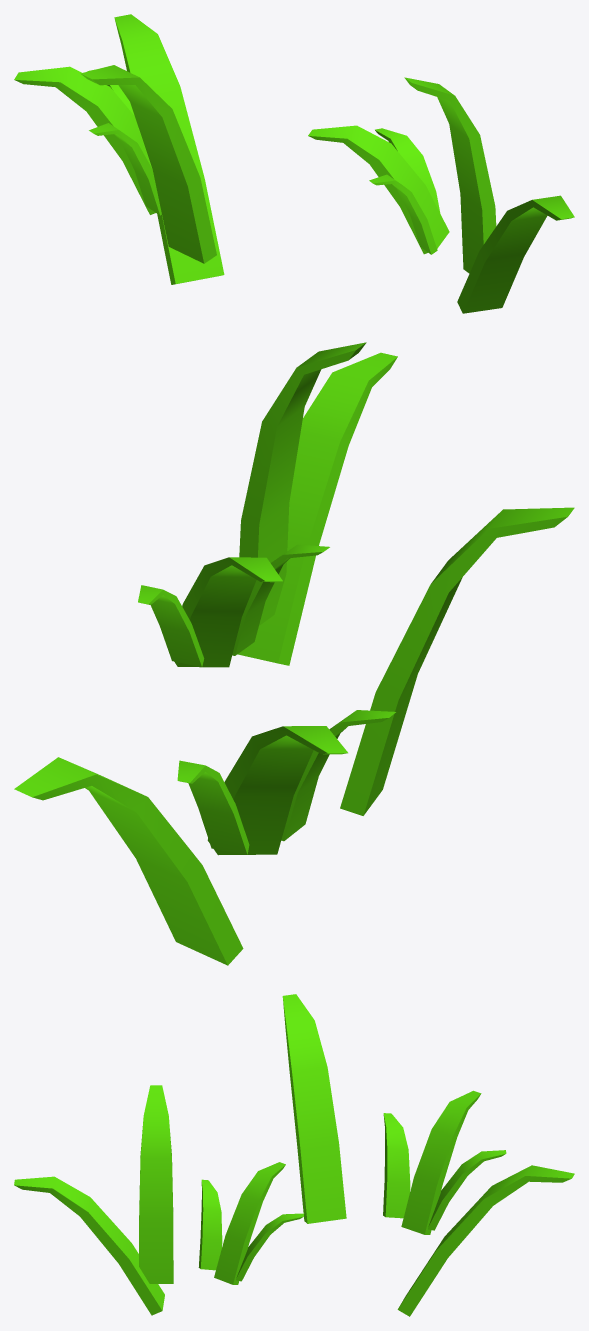
Rendered from veg_05.fbx.
3 views of the same model, one above another, from view 1: azimuth 30°, elevation 25°; view 2: azimuth 150°, elevation 25°; view 3: azimuth 270°, elevation 25° (orthographic). The views are drawn at different scales.
Visible parts, largest first — view 1: veg_05; view 2: veg_05; view 3: veg_05.
Boxes of the visible parts, x1=… form: veg_05: x1=14, y1=14, x2=574, y2=313; veg_05: x1=14, y1=342, x2=574, y2=965; veg_05: x1=14, y1=994, x2=574, y2=1316.
Bounding box in the file's own units: 2.07 × 1.85 × 3.85.
